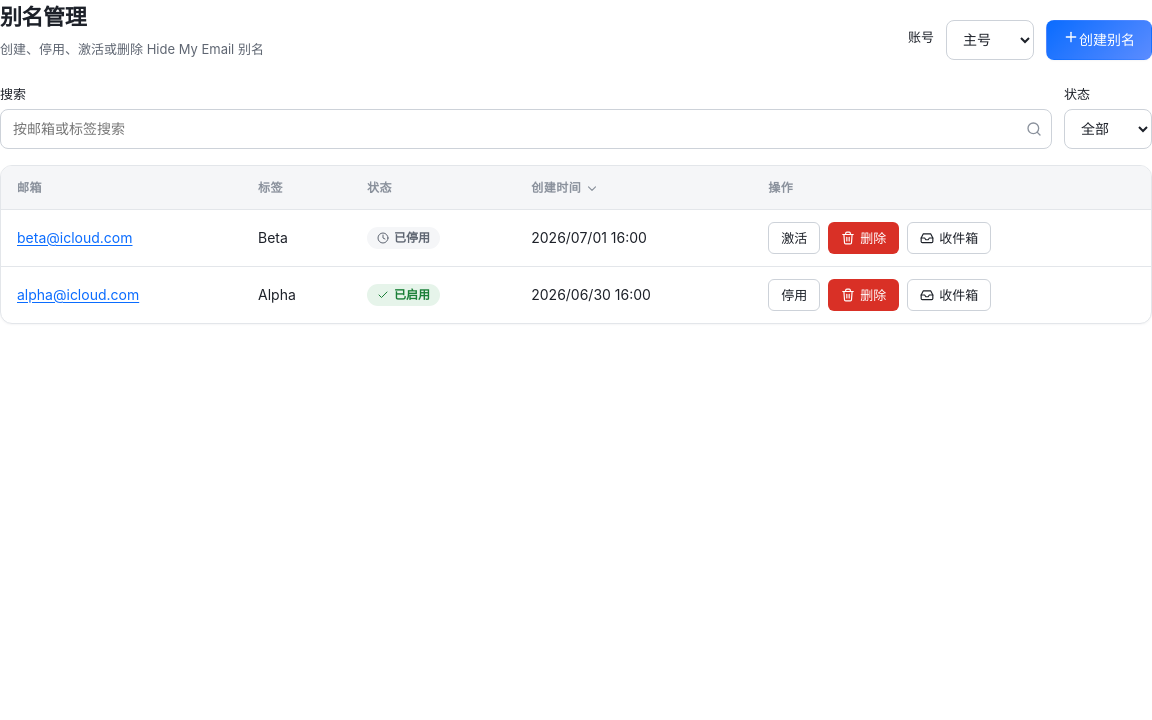
Test: AliasesPage › 操作失败保留列表并显示错误
expect the button "alpha@icloud.com" is shown: met, box [17,284,139,307]
Click the button "停用": (794, 295) [768,279,820,311]
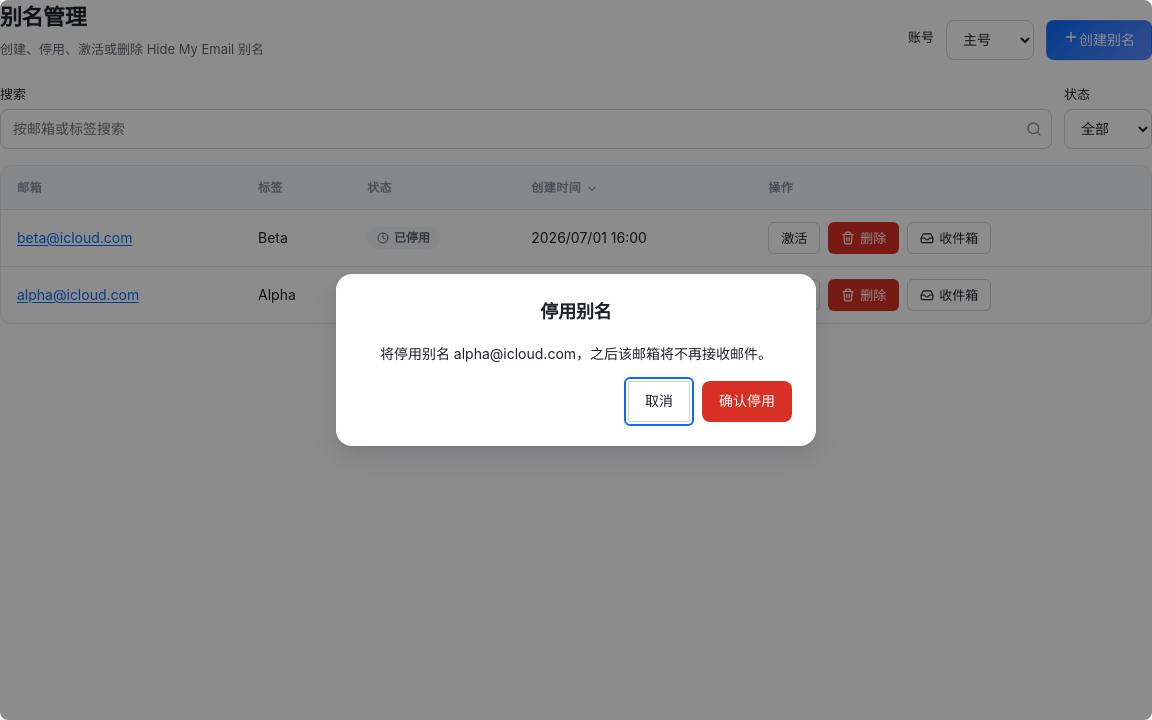
Click the button "确认停用": (747, 402) [702,381,792,422]
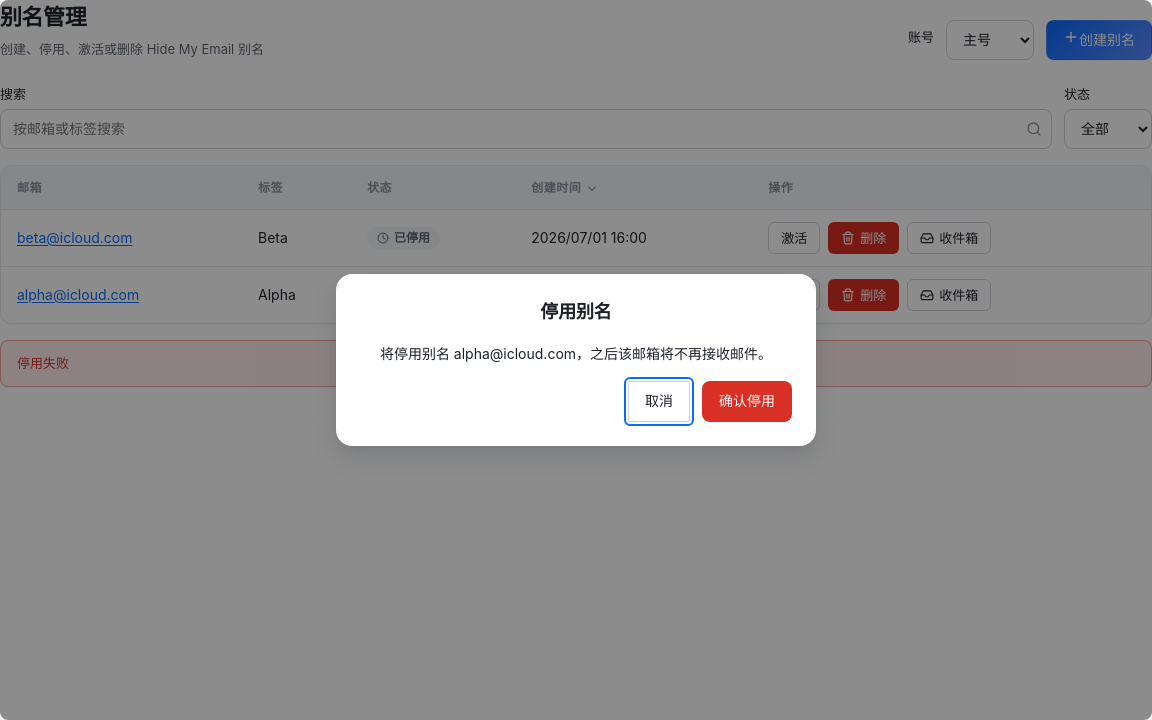
expect the button "alpha@icloud.com" is shown: met, box [17,284,139,307]
expect the message reads "停用失败": met, box [17,355,69,371]
